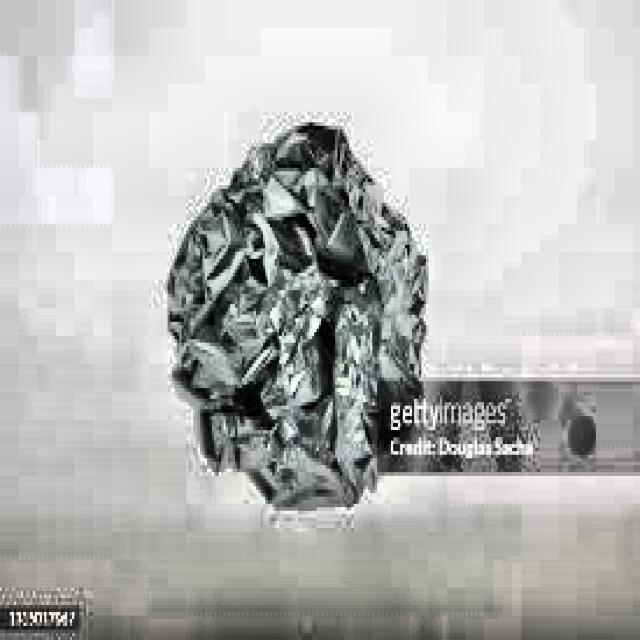Foil: (147, 102, 450, 530)
